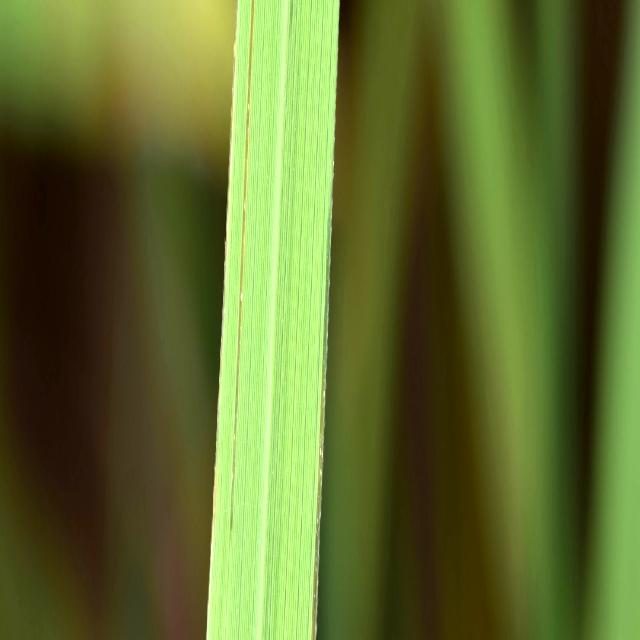BLS: (230, 0, 255, 533), (311, 206, 331, 638), (290, 0, 292, 12)
